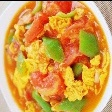fanqiechaojidan: (3, 0, 110, 112)
